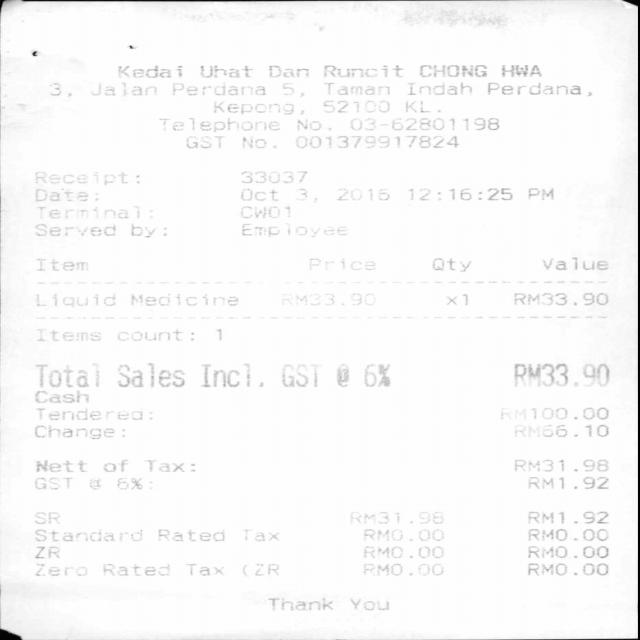text: (511, 361, 607, 386), (351, 116, 500, 132), (292, 134, 459, 148), (27, 363, 103, 388), (113, 362, 184, 388), (155, 117, 281, 130), (36, 204, 144, 219), (496, 406, 610, 420), (406, 186, 511, 201), (484, 80, 582, 96), (33, 528, 142, 542), (35, 406, 142, 420), (511, 423, 610, 438), (504, 291, 610, 305), (30, 169, 128, 184), (511, 457, 608, 472), (127, 293, 235, 306), (198, 363, 254, 388), (205, 99, 298, 114), (360, 544, 446, 560), (526, 526, 609, 542), (237, 223, 347, 235), (524, 474, 611, 489), (323, 62, 404, 78), (29, 222, 118, 236), (526, 510, 609, 525), (169, 82, 264, 95), (358, 562, 444, 576), (312, 99, 392, 114), (274, 292, 372, 304), (346, 511, 444, 523), (276, 360, 321, 386), (526, 545, 609, 559), (33, 293, 115, 307), (31, 423, 113, 437), (364, 528, 446, 542), (404, 80, 472, 96), (524, 563, 607, 576), (538, 256, 607, 271), (321, 82, 392, 96), (418, 64, 488, 78), (111, 328, 181, 342), (100, 562, 170, 576), (91, 81, 156, 96), (35, 326, 100, 341), (301, 257, 375, 270), (29, 389, 89, 405), (29, 188, 95, 202), (115, 65, 183, 78), (240, 170, 308, 183), (267, 596, 330, 610), (154, 528, 227, 540), (236, 204, 290, 220), (30, 458, 87, 473), (336, 186, 388, 202), (35, 560, 86, 576), (30, 257, 92, 270), (498, 62, 546, 78), (361, 363, 391, 387), (424, 256, 470, 271), (344, 595, 388, 610), (198, 66, 252, 78), (184, 560, 224, 576), (234, 188, 282, 201), (266, 64, 309, 78), (182, 134, 225, 148), (140, 458, 183, 472), (240, 529, 282, 541), (31, 476, 71, 488), (404, 98, 431, 114), (100, 459, 130, 473), (33, 542, 60, 557), (296, 116, 321, 132), (117, 476, 147, 489), (526, 186, 552, 200), (128, 222, 154, 236), (33, 511, 60, 524), (238, 135, 267, 147), (443, 292, 469, 304), (252, 563, 276, 574), (46, 82, 59, 97), (294, 187, 308, 200), (88, 477, 103, 489), (282, 82, 295, 95), (211, 326, 222, 340)
